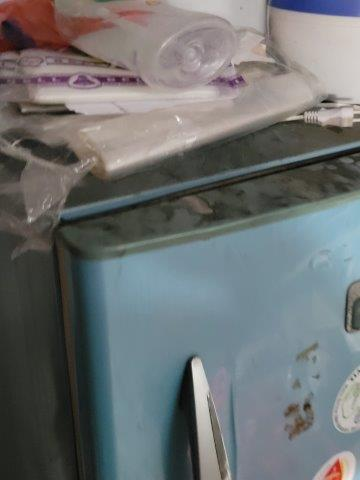plastik: (17, 33, 319, 198)
